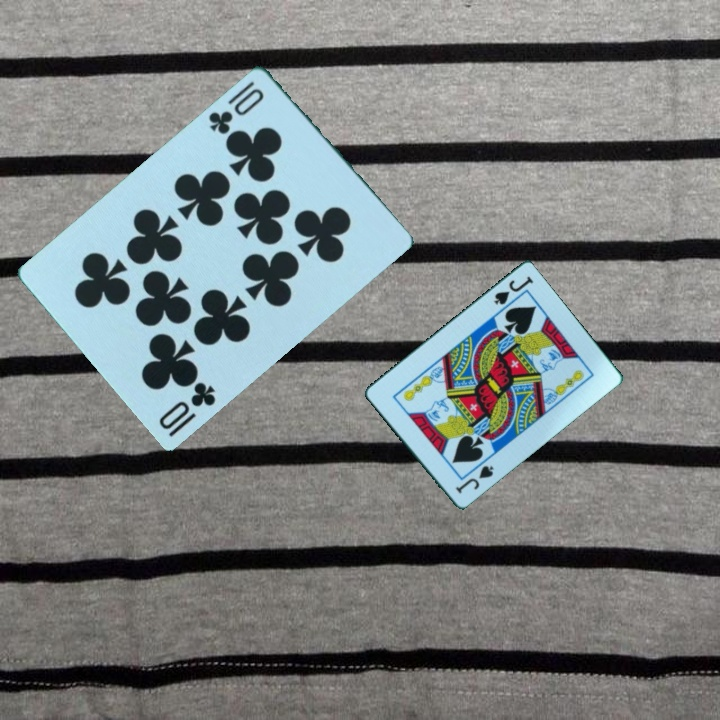10c: (164, 378, 219, 439), (204, 84, 267, 137)
Js: (490, 273, 536, 308), (452, 462, 497, 497)
